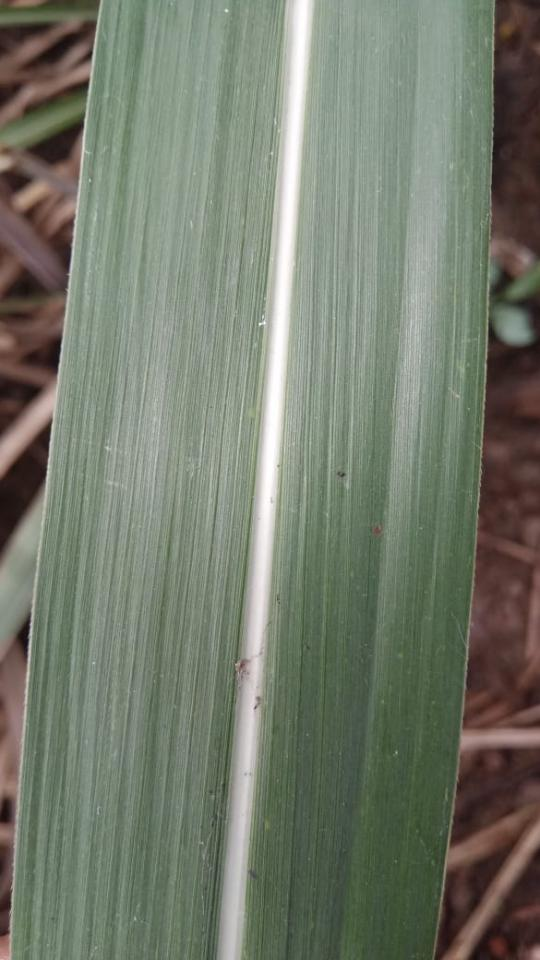Healthy: (12, 0, 495, 959)
